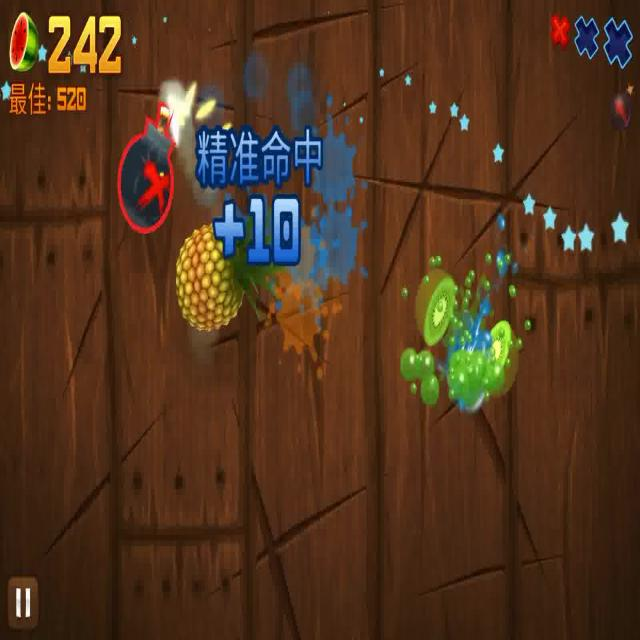bomb: (116, 100, 182, 233)
fruit: (174, 222, 283, 326), (416, 268, 455, 351), (481, 316, 517, 401)
